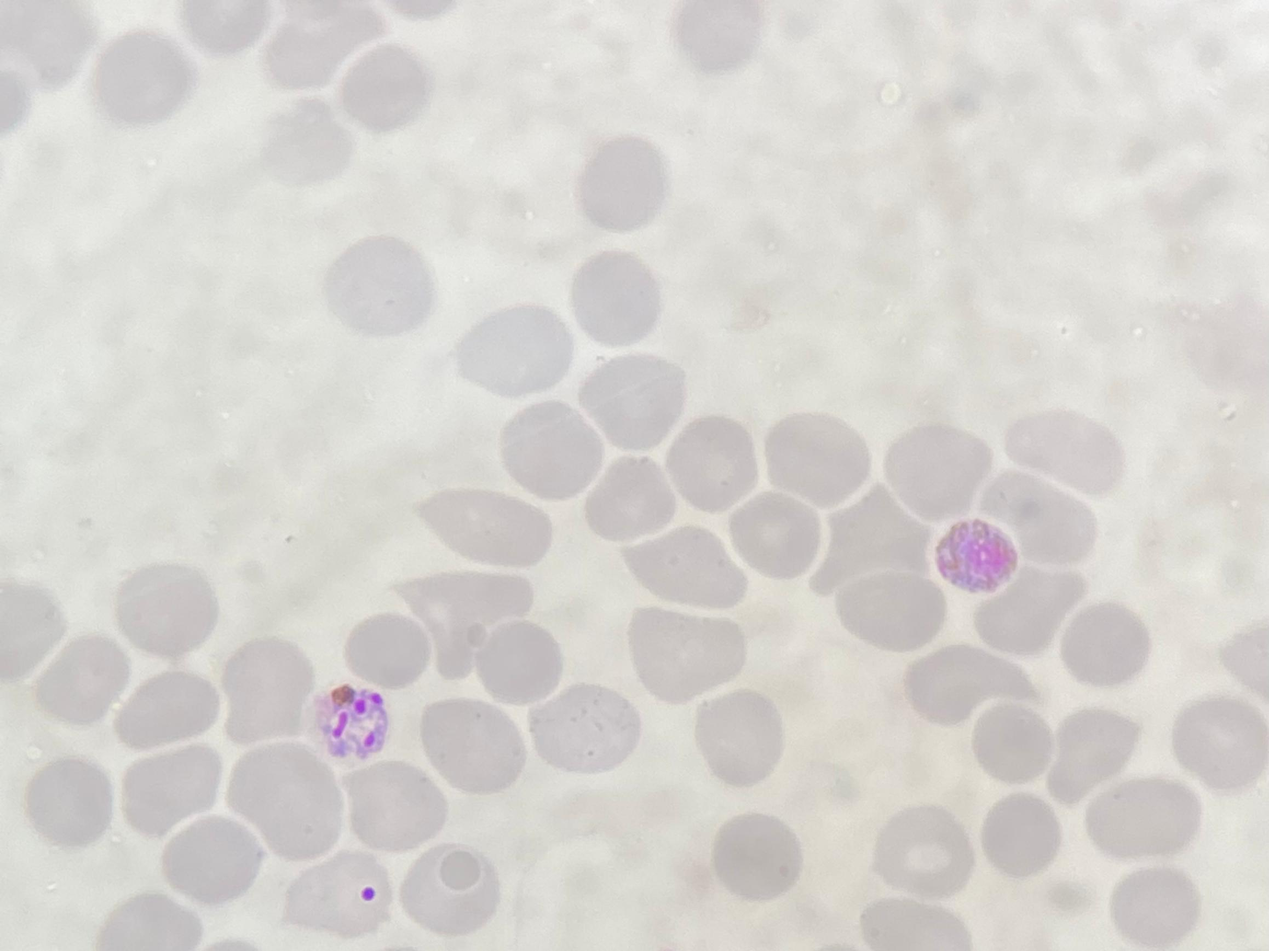Infected: (315, 680, 391, 763), (932, 518, 1015, 593)
Uninfected: (389, 565, 542, 675), (223, 742, 341, 859), (812, 485, 932, 599), (976, 466, 1100, 567), (410, 485, 554, 569), (625, 606, 746, 704), (323, 236, 438, 339), (618, 522, 746, 614), (452, 310, 581, 401), (901, 643, 1035, 729), (113, 560, 223, 661), (119, 740, 227, 842), (883, 421, 995, 518), (577, 351, 686, 450), (417, 697, 527, 795), (1001, 407, 1123, 495), (497, 399, 603, 500), (340, 755, 449, 852), (762, 410, 869, 508), (217, 636, 314, 744), (868, 804, 976, 901), (529, 683, 641, 775), (399, 843, 503, 940), (974, 568, 1086, 658), (282, 851, 394, 941), (158, 811, 263, 906), (830, 569, 946, 654), (261, 9, 377, 94), (112, 667, 224, 753), (1085, 776, 1197, 862), (32, 635, 132, 729), (93, 30, 192, 124), (663, 414, 759, 510), (570, 247, 665, 343), (21, 754, 116, 850), (1046, 707, 1142, 802), (692, 688, 784, 787), (727, 488, 826, 580), (582, 453, 681, 544), (255, 102, 355, 191), (575, 138, 665, 235), (1169, 696, 1264, 787), (336, 42, 432, 130), (710, 812, 804, 901), (471, 616, 563, 704), (4, 1, 96, 89), (1059, 601, 1150, 685), (969, 701, 1059, 785), (978, 791, 1063, 879), (342, 610, 432, 691), (1108, 866, 1199, 944), (674, 2, 759, 73)
